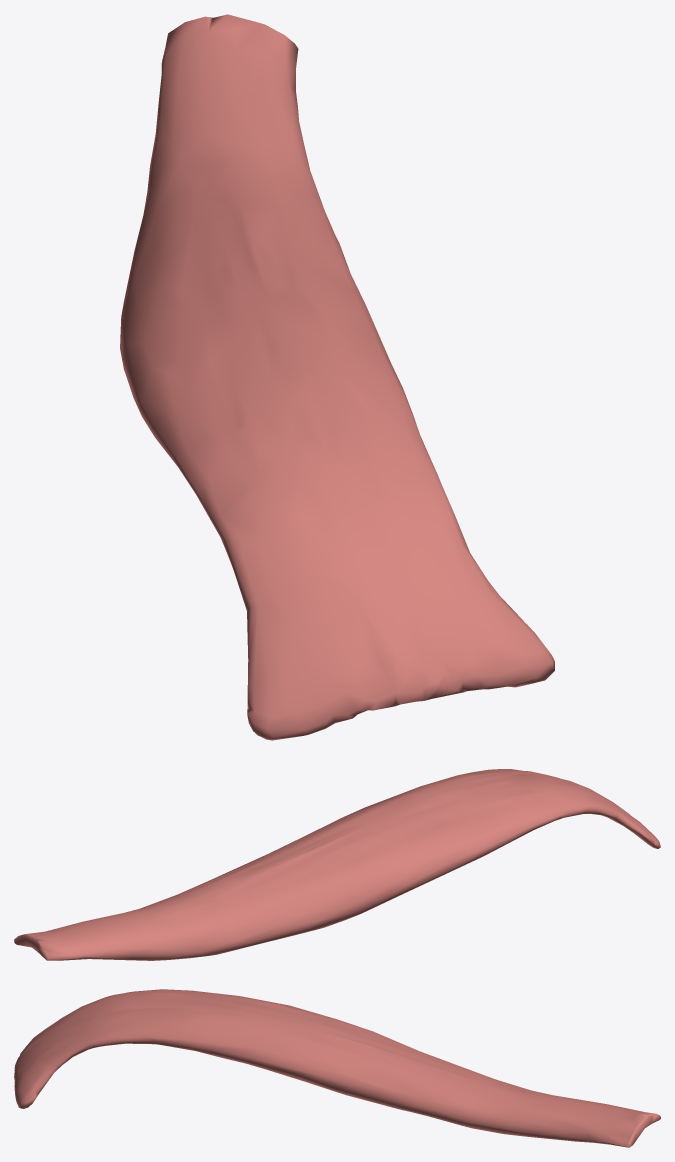
3 views of the same model, one above another, from view 1: azimuth 30°, elevation 25°; view 2: azimuth 150°, elevation 25°; view 3: azimuth 270°, elevation 25° (orthographic). The views are drawn at different scales.
Visible parts, largest first — view 1: ZA_1c08e88788964166; view 2: ZA_1c08e88788964166; view 3: ZA_1c08e88788964166.
Part boxes in pixels (bbox=[...]): ZA_1c08e88788964166: bbox=[120, 14, 554, 740]; ZA_1c08e88788964166: bbox=[14, 769, 660, 960]; ZA_1c08e88788964166: bbox=[14, 989, 660, 1147].
Bounding box in the file's own units: 0.0229 × 0.00646 × 0.0406.
